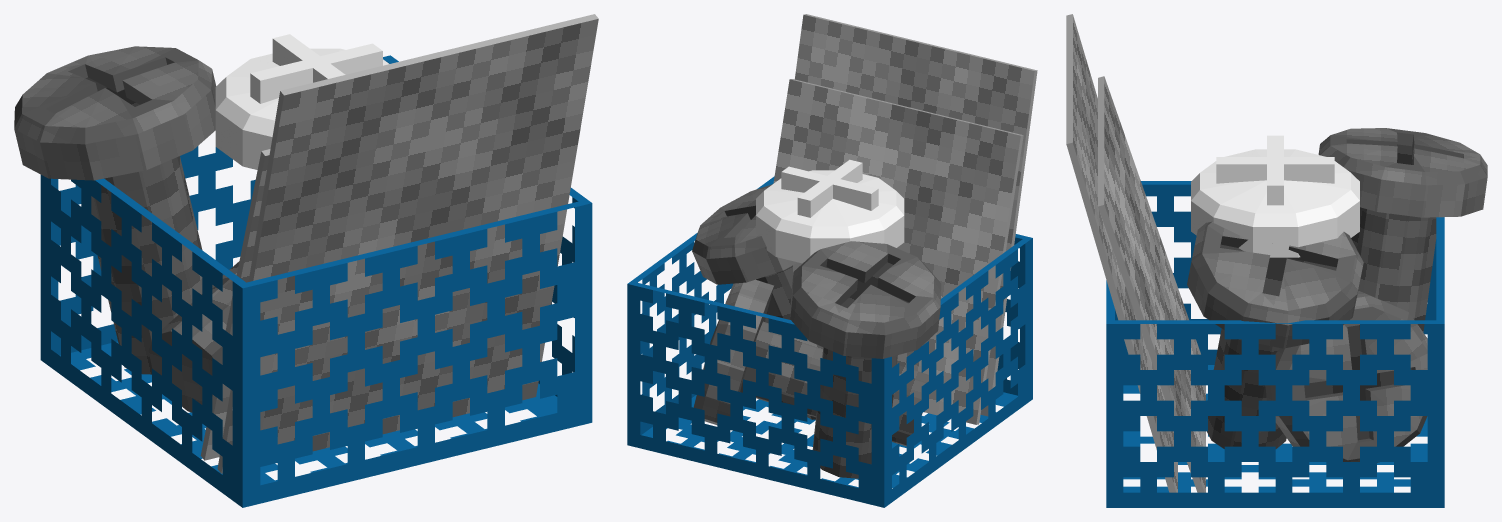
Rendered from scrap metal.gltf.
The picture shows the model from 3 angles, left to right: view 1: azimuth 30°, elevation 25°; view 2: azimuth 150°, elevation 25°; view 3: azimuth 270°, elevation 25°; orthographic projection. The views are drawn at different scales.
Visible parts, largest first — view 1: plastic box, tall sheet, bolt (×3), cuboid (×2), short sheet, making bolt; view 2: plastic box, bolt (×4), short sheet, tall sheet, cuboid (×2), making bolt; view 3: bolt (×4), plastic box, short sheet, tall sheet, cuboid (×2), making bolt.
Boxes of the visible parts, bbox=[...] form: plastic box: bbox=[40, 55, 592, 507]; tall sheet: bbox=[217, 14, 598, 473]; bolt (×3): bbox=[14, 46, 388, 412]; cuboid (×2): bbox=[250, 34, 382, 103]; short sheet: bbox=[200, 149, 270, 460]; making bolt: bbox=[251, 35, 382, 102]; plastic box: bbox=[627, 176, 1032, 507]; bolt (×4): bbox=[692, 170, 941, 478]; short sheet: bbox=[773, 79, 1023, 424]; tall sheet: bbox=[795, 14, 1037, 416]; cuboid (×2): bbox=[781, 159, 878, 217]; making bolt: bbox=[781, 161, 877, 216]; bolt (×4): bbox=[1187, 128, 1487, 462]; plastic box: bbox=[1106, 181, 1444, 507]; short sheet: bbox=[1098, 76, 1205, 492]; tall sheet: bbox=[1066, 14, 1177, 492]; cuboid (×2): bbox=[1216, 135, 1334, 205]; making bolt: bbox=[1216, 136, 1334, 185].
Bounding box in the file's own units: 0.694 × 0.7337 × 0.7786.
Materials: 7 (4 with a texture image).
